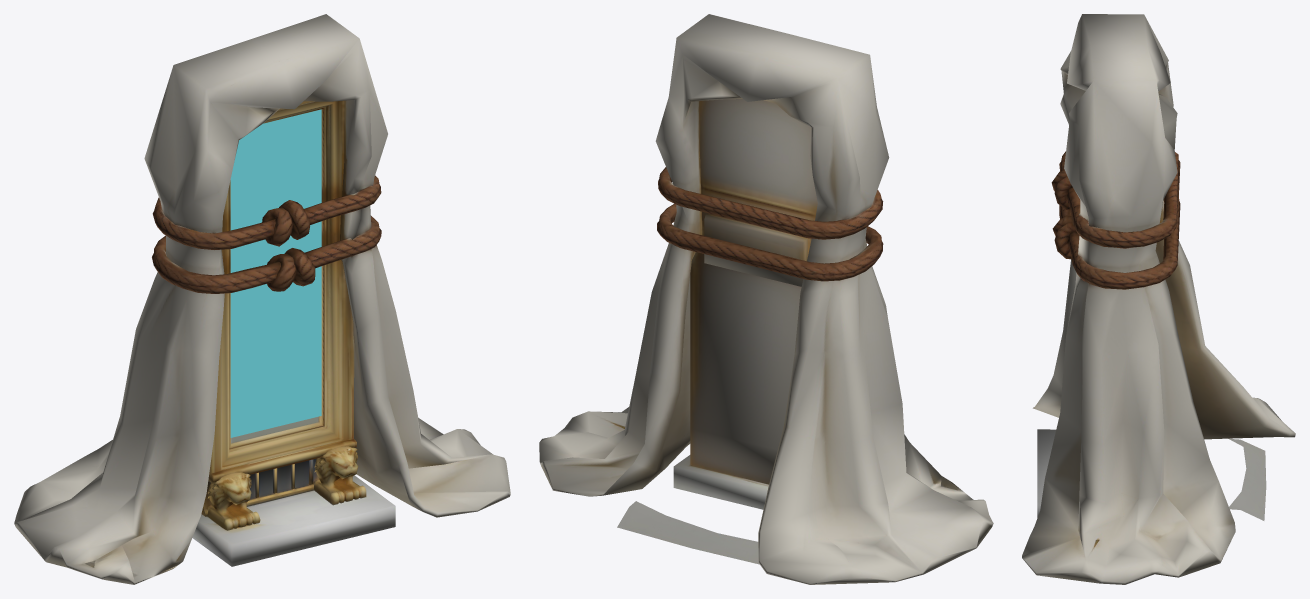
The model's file is mirror_bound.glb.
The picture shows the model from 3 angles, left to right: view 1: azimuth 30°, elevation 25°; view 2: azimuth 150°, elevation 25°; view 3: azimuth 270°, elevation 25°; orthographic projection. The views are drawn at different scales.
Parts seen in each view (by area): view 1: tripo_node_71e09956-4358-43ad-be49-8a1b1472c355, glass_f; view 2: tripo_node_71e09956-4358-43ad-be49-8a1b1472c355; view 3: tripo_node_71e09956-4358-43ad-be49-8a1b1472c355.
Part boxes in pixels (x1,y1,x2,y2): tripo_node_71e09956-4358-43ad-be49-8a1b1472c355: (14, 14, 510, 584); glass_f: (230, 109, 321, 437); tripo_node_71e09956-4358-43ad-be49-8a1b1472c355: (539, 14, 993, 584); tripo_node_71e09956-4358-43ad-be49-8a1b1472c355: (1022, 14, 1295, 584).
Size of the model in its own units: 0.9824 by 0.998 by 0.5605.
Materials: 2 (1 with a texture image).
